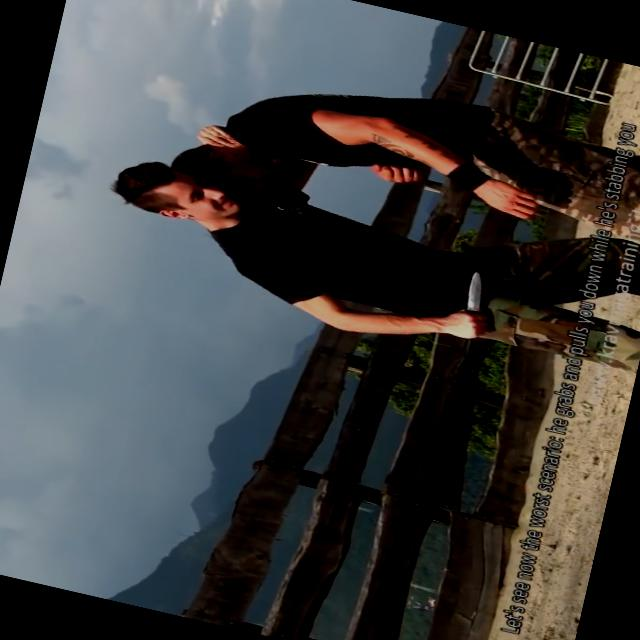knife: (445, 262, 513, 348)
